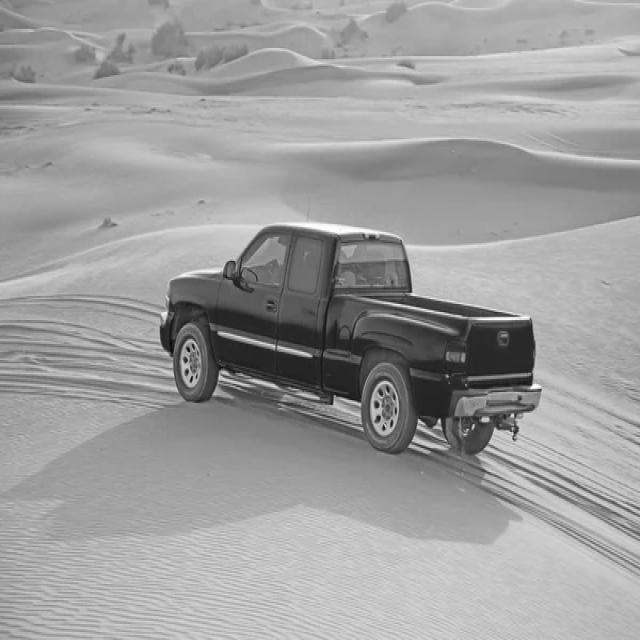Car: (161, 222, 543, 454)
